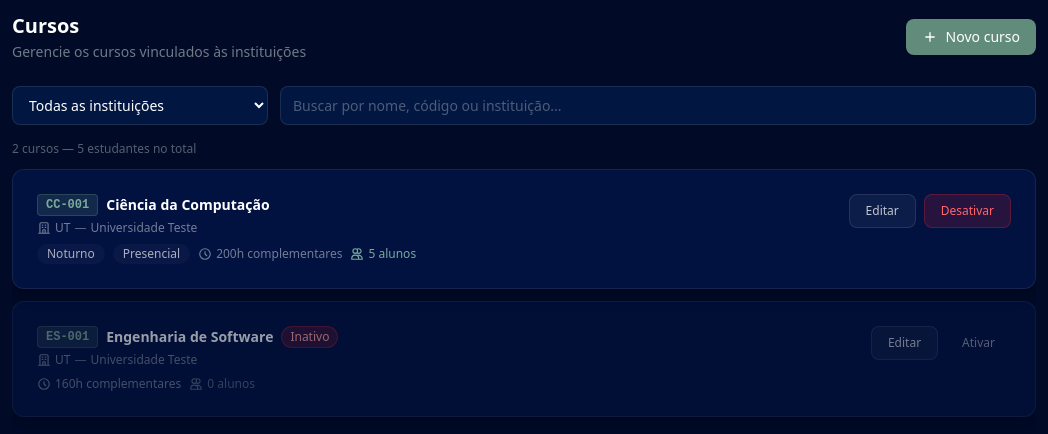
Cursos — filtros › exibe mensagem de nenhum resultado após filtro
The image size is (1048, 434).
Expected: the heading "Ciência da Computação" is shown, [106,195,270,215]
Step 1. Type "xyzinexistente" into the field with placeholder "Buscar por nome, código ou instituição..." → (658, 106), box [280,86,1036,125]
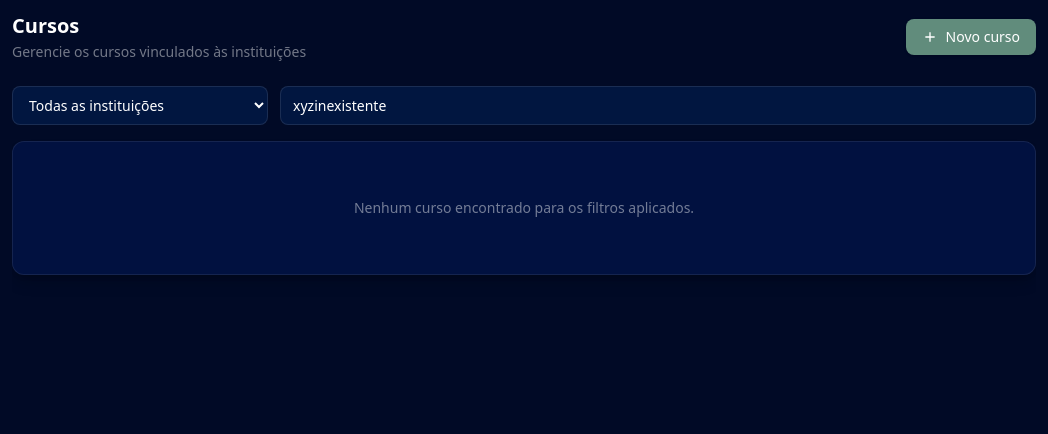
Expected: the text "Nenhum curso encontrado para os filtros aplicados." is shown, [354,198,694,217]
